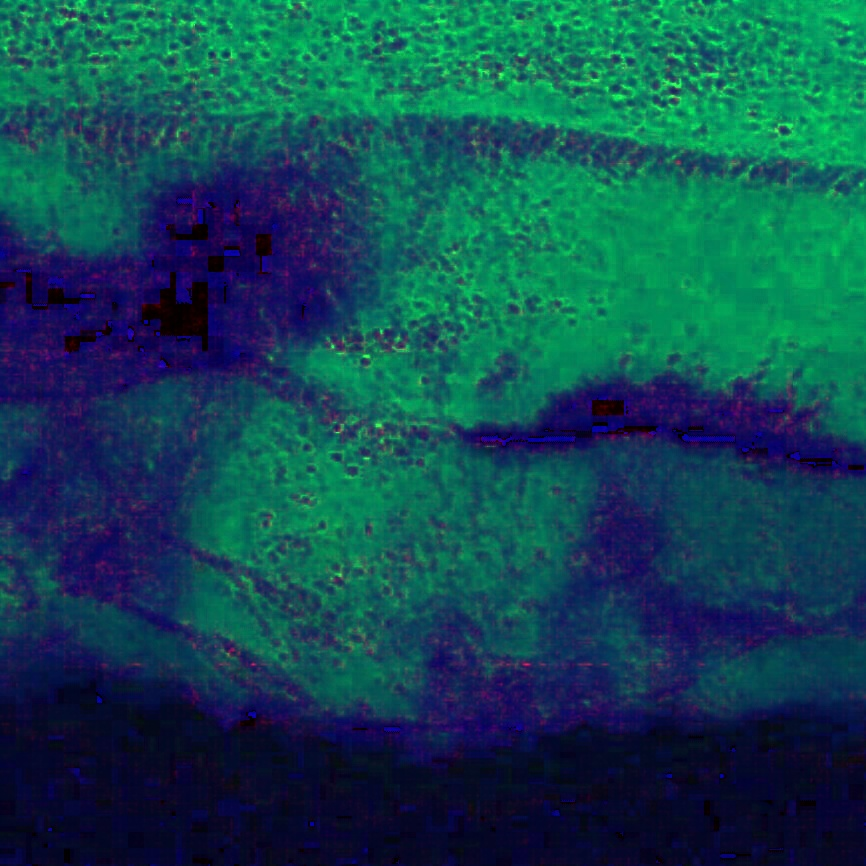rip_current: (183, 138, 563, 696)
